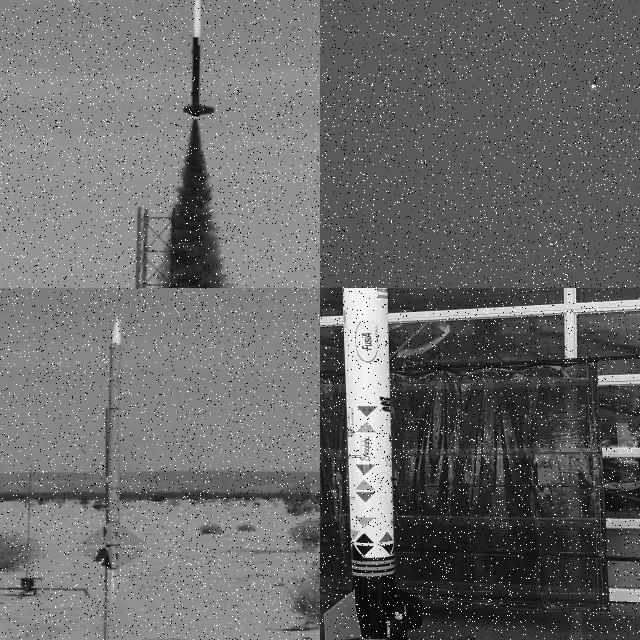Rocket: (323, 288, 422, 640), (78, 314, 150, 572), (181, 0, 216, 120), (590, 74, 598, 86)
